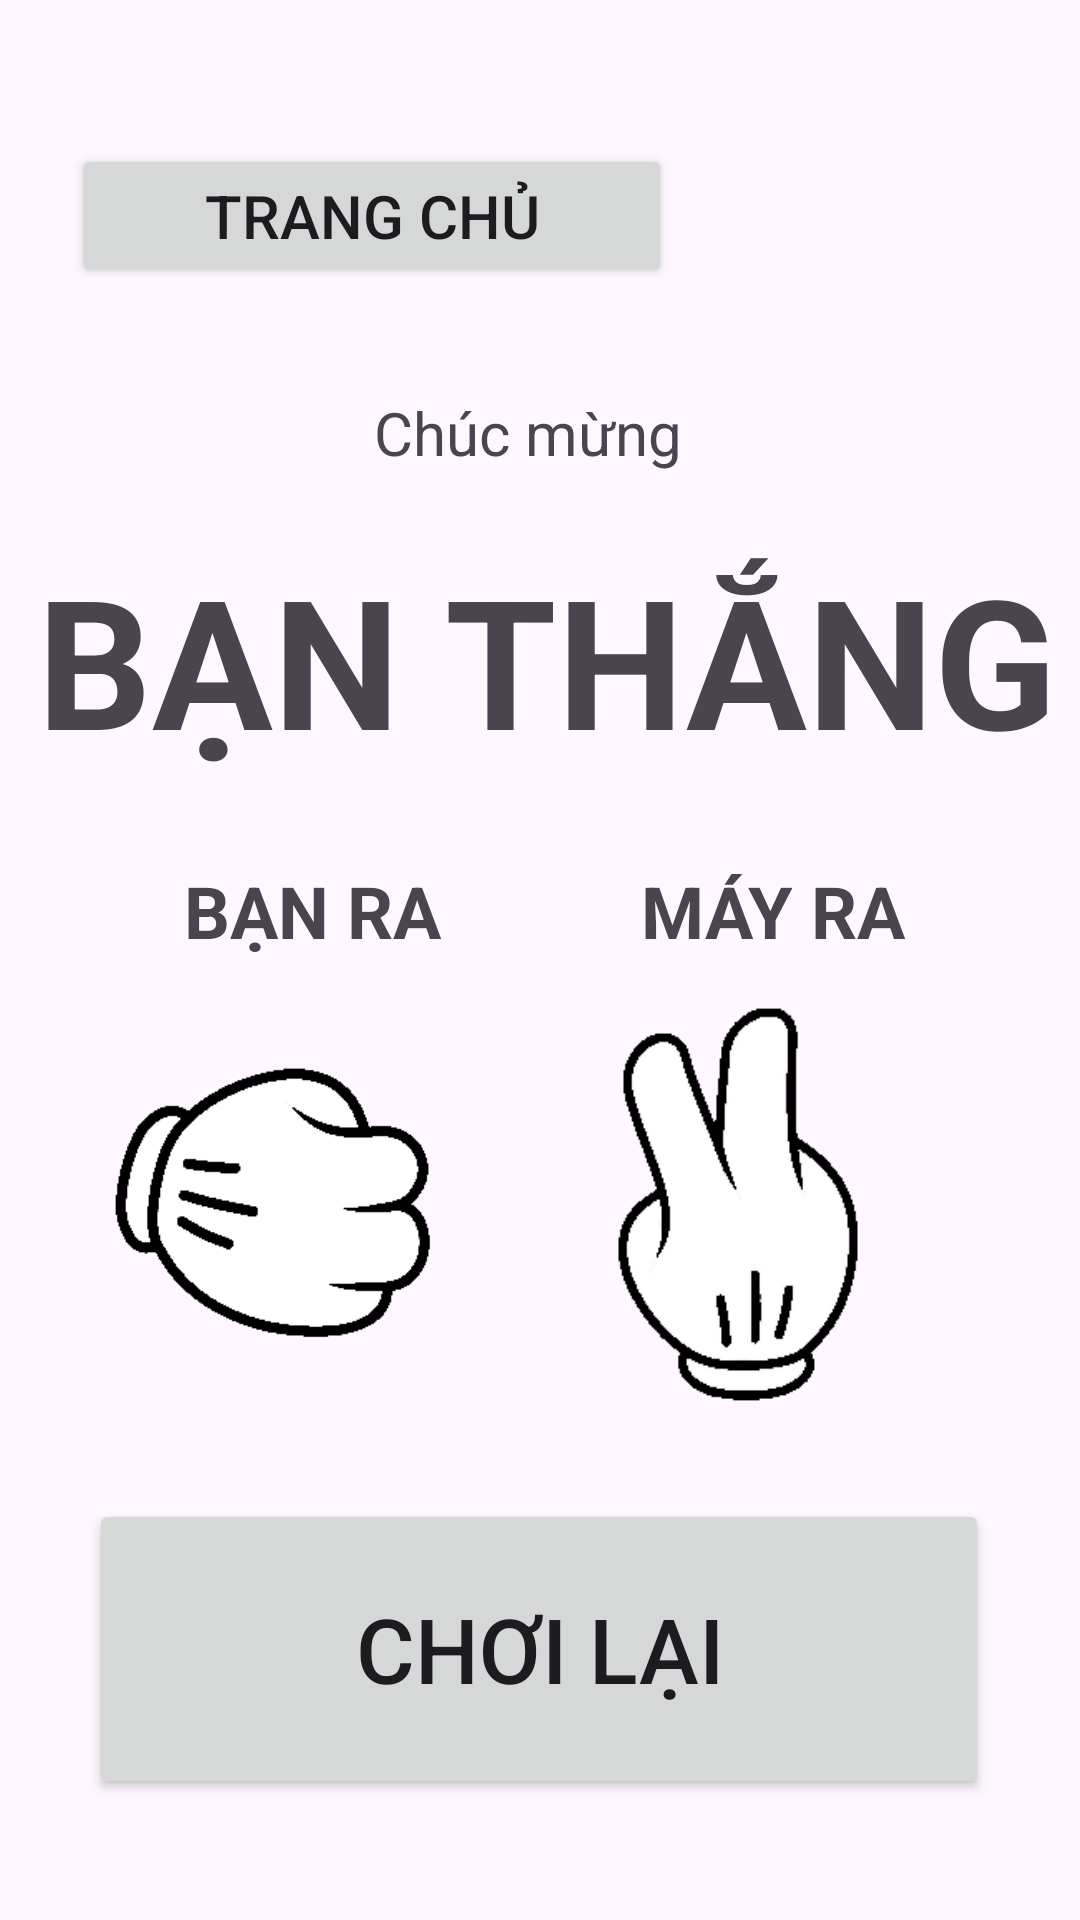

Point at icon controls on the screen. Image size 1080x1920, points as (x,y).
bua: (272,1202)
